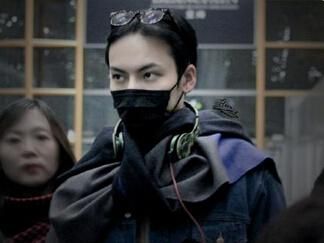NONE: (1, 118, 63, 188)
OK: (110, 52, 178, 136)
